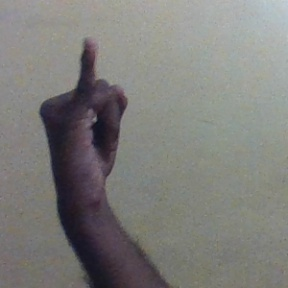I: (38, 32, 126, 185)
